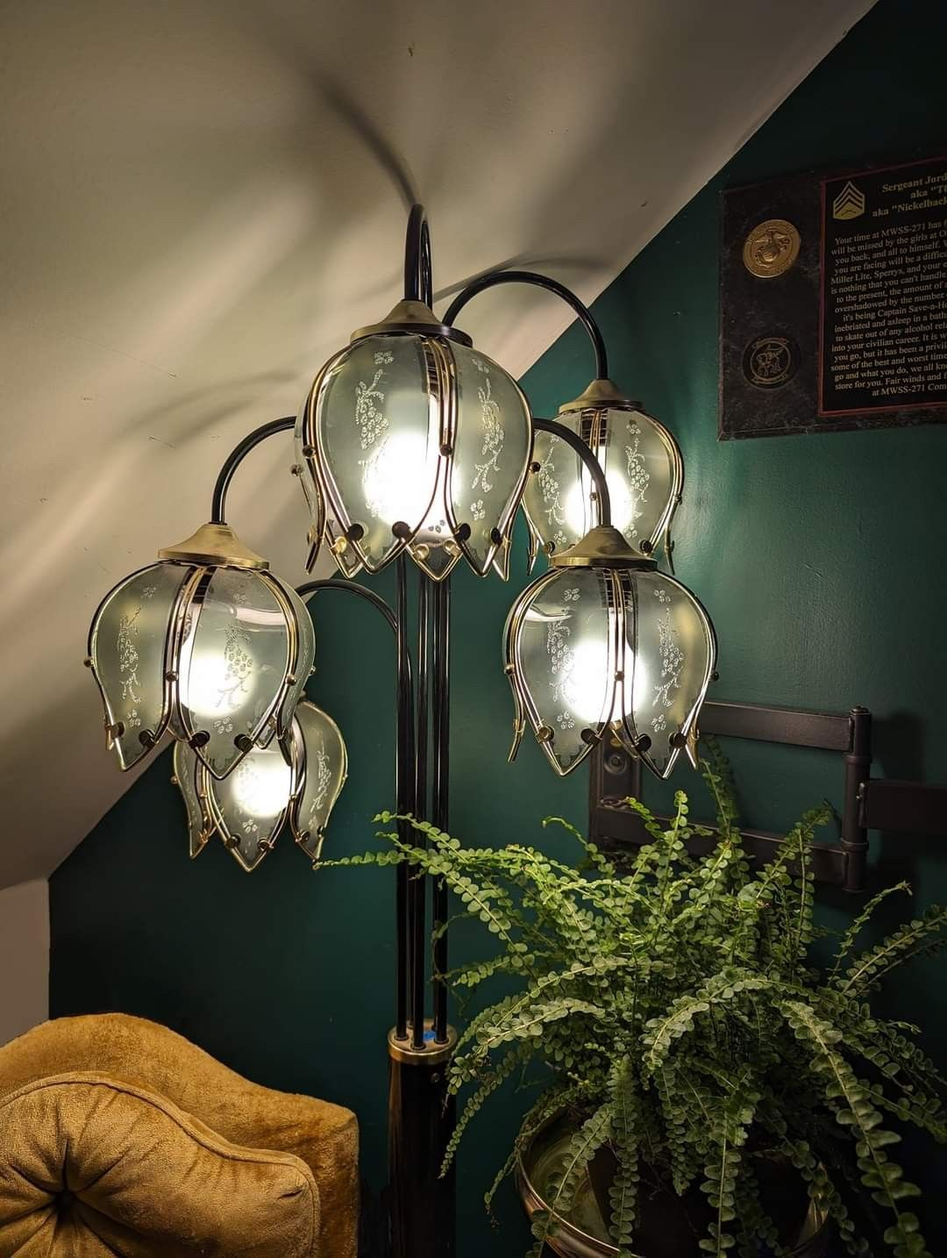not a gesture sign: (155, 21, 756, 919)
